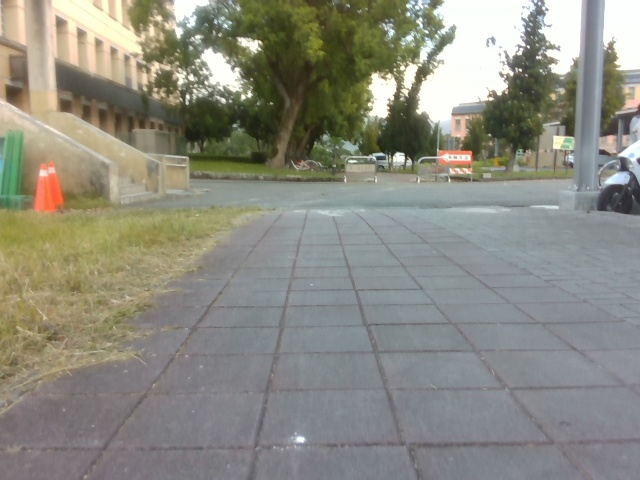grass: (126, 0, 578, 171), (0, 200, 257, 391), (188, 154, 346, 182), (371, 161, 572, 182), (601, 36, 628, 131)
road: (0, 179, 639, 479)
sidewalk: (413, 205, 639, 328)
